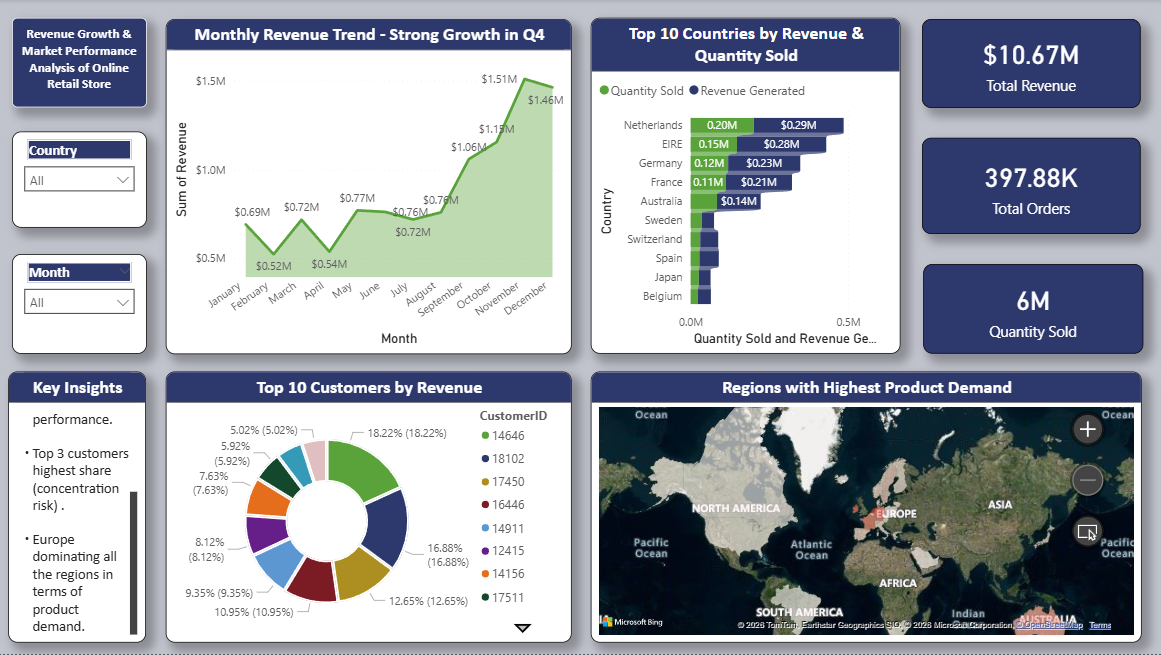

The dashboard page shown, as its layout file describes it:
{"tool":"powerbi","page":{"name":"Page 1","canvas":[1280,720],"ordinal":0},"visuals":[{"type":"lineChart","title":"Monthly Revenue Trend - Strong Growth in Q4","fields":{"Category":["Online Retail.InvoiceDate.Variation.Date Hierarchy.Month"],"Y":["Sum(Online Retail.Revenue)"]},"box":[185.2,22,446,367.8],"z":0},{"type":"barChart","title":"Top 10 Countries by Revenue & Quantity Sold","fields":{"Category":["Online Retail.Country"],"Y":["Sum(Online Retail.Quantity)","Sum(Online Retail.Revenue)"]},"box":[651.8,20.6,340.3,369.1],"z":1000},{"type":"donutChart","title":"Top 10 Customers by Revenue","fields":{"Category":["Online Retail.CustomerID"],"Y":["Sum(Online Retail.Revenue)"]},"box":[185.2,408.9,446,297.8],"z":2000},{"type":"filledMap","title":"Regions with Highest Product Demand","fields":{"Category":["Online Retail.Country"]},"box":[651.8,408.9,605.1,297.8],"z":3000},{"type":"card","fields":{"Values":["Sum(Online Retail.Revenue)"]},"box":[1015.4,22,240.1,97.4],"z":4000},{"type":"card","fields":{"Values":["CountNonNull(Online Retail.CustomerID)"]},"box":[1015.4,152.3,240.1,105.7],"z":5000},{"type":"card","fields":{"Values":["Sum(Online Retail.Quantity)"]},"box":[1016.8,290.9,241.5,98.8],"z":6000},{"type":"slicer","fields":{"Values":["Online Retail.Country"]},"box":[16.5,145.5,148.2,105.7],"z":7000},{"type":"slicer","fields":{"Values":["Online Retail.InvoiceDate.Variation.Date Hierarchy.Month"]},"box":[16.5,279.9,148.2,109.8],"z":8000},{"type":"textbox","title":"Key Insights","box":[12.3,408.9,150.9,297.8],"z":9000},{"type":"textbox","title":"Revenue Growth & Market Performance Analysis of Online Retail Store","box":[16.5,20.6,148.2,98.8],"z":10000}]}

Visuals, with their boxes in screenshot pixels (x1, y1, x2, y2), scaled from the page's 1280x720 canvas onto the 1161x655 screenshot:
"Monthly Revenue Trend - Strong Growth in Q4" lineChart: x1=168 y1=20 x2=573 y2=355
"Top 10 Countries by Revenue & Quantity Sold" barChart: x1=591 y1=19 x2=900 y2=355
"Top 10 Customers by Revenue" donutChart: x1=168 y1=372 x2=573 y2=643
"Regions with Highest Product Demand" filledMap: x1=591 y1=372 x2=1140 y2=643
card - Sum(Online Retail.Revenue): x1=921 y1=20 x2=1139 y2=109
card - CountNonNull(Online Retail.CustomerID): x1=921 y1=139 x2=1139 y2=235
card - Sum(Online Retail.Quantity): x1=922 y1=265 x2=1141 y2=355
slicer - Online Retail.Country: x1=15 y1=132 x2=149 y2=229
slicer - Online Retail.InvoiceDate.Variation.Date Hierarchy.Month: x1=15 y1=255 x2=149 y2=355
"Key Insights" textbox: x1=11 y1=372 x2=148 y2=643
"Revenue Growth & Market Performance Analysis of Online Retail Store" textbox: x1=15 y1=19 x2=149 y2=109
